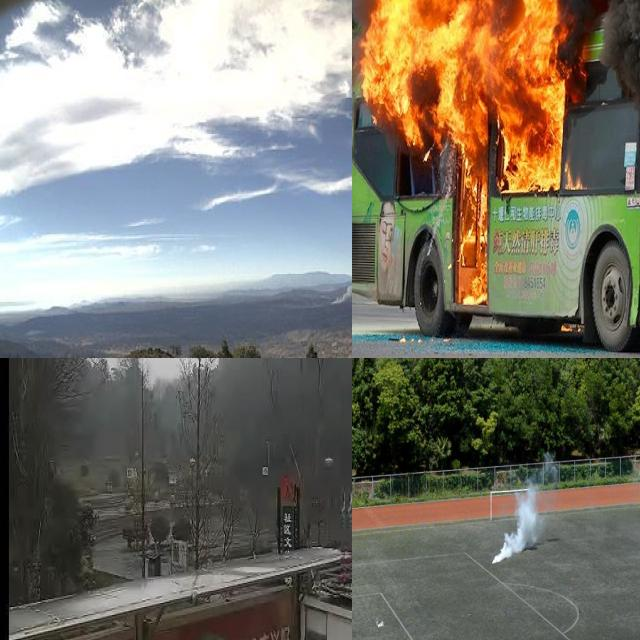fire: (362, 0, 577, 296)
smoke: (491, 457, 560, 563), (602, 0, 640, 185)
